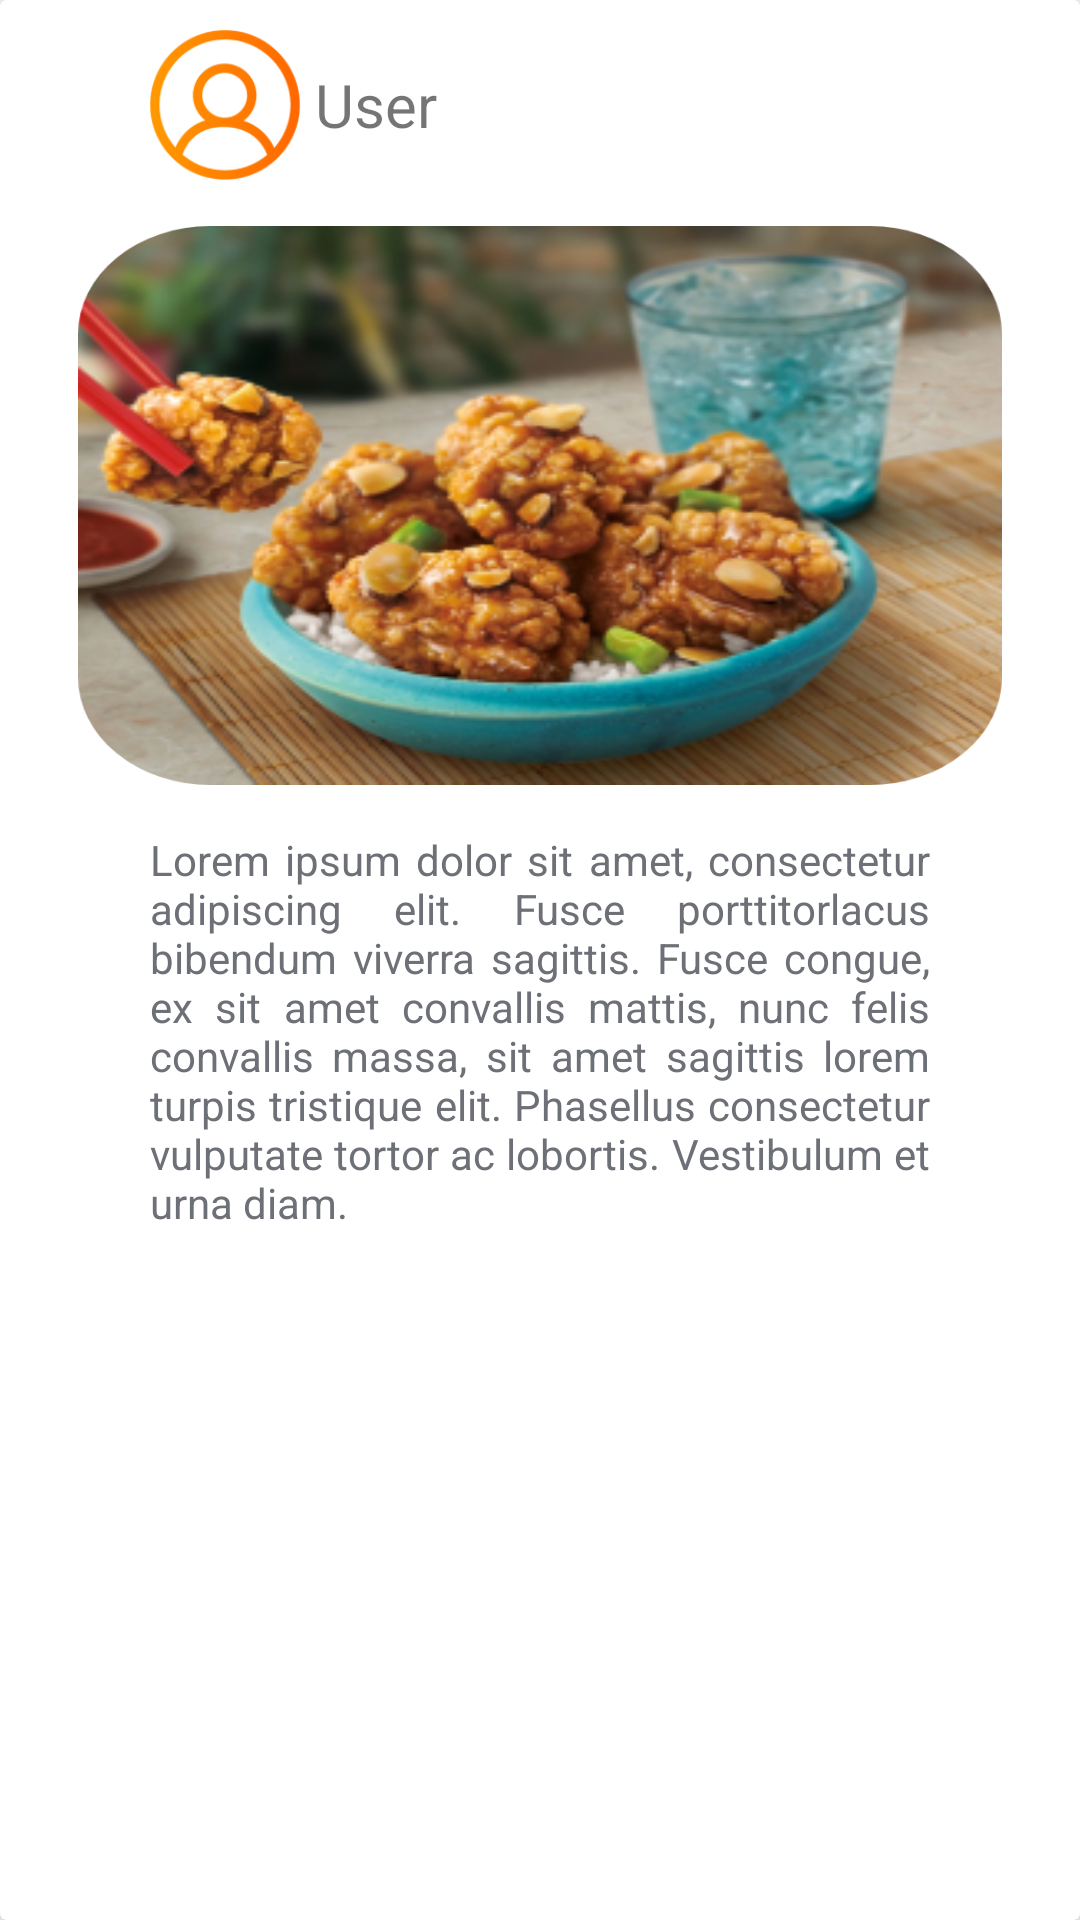

Screen size 1080×1920. Icon name, then its box in pixels as (x1, y1, x2, y2):
perfil: (150, 30, 300, 180)
